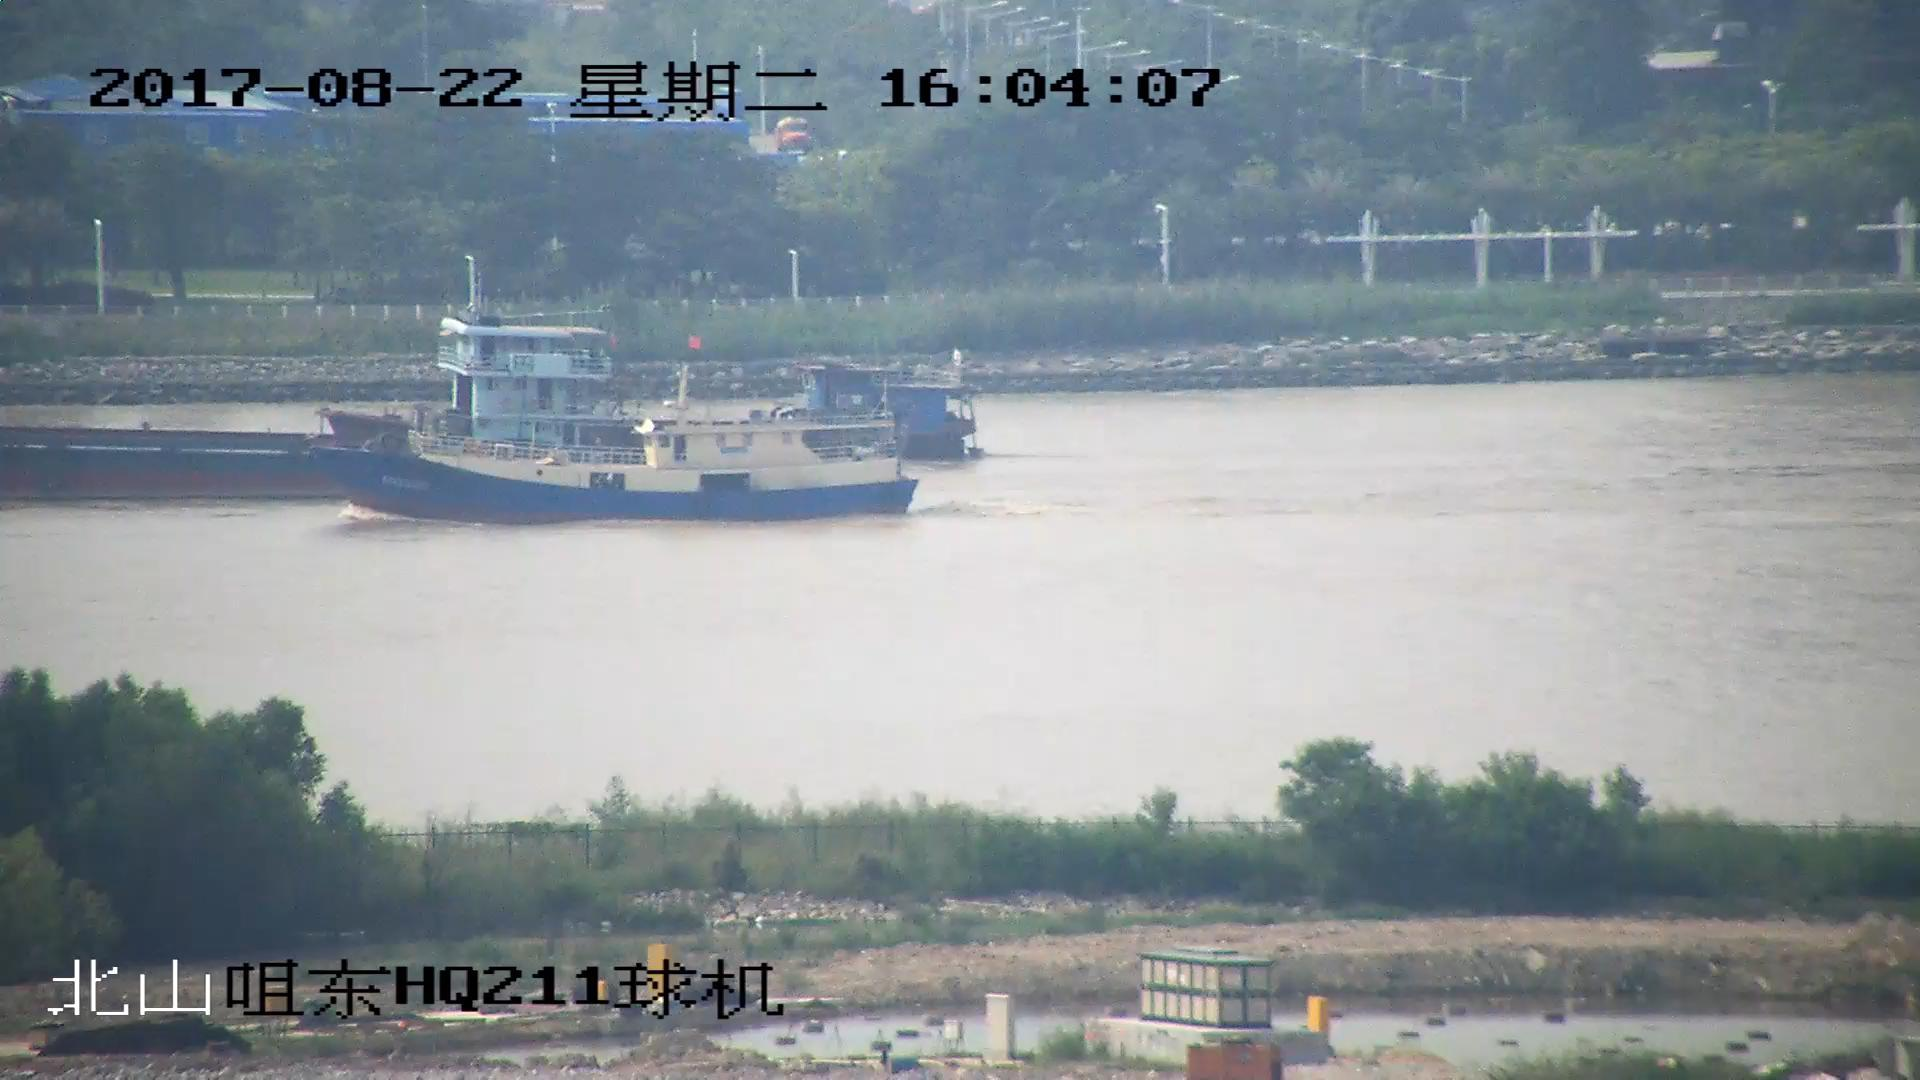Ship: (3, 313, 632, 498), (313, 340, 920, 526)
